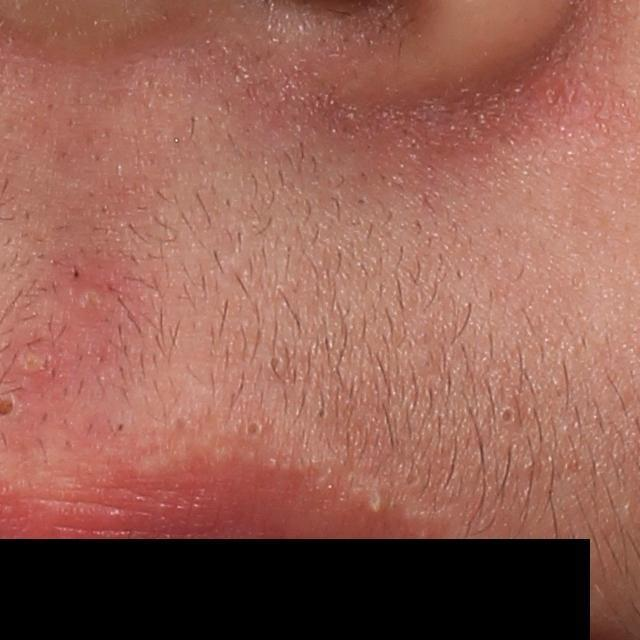comedo: (240, 411, 271, 442), (489, 398, 518, 426), (256, 353, 284, 377), (315, 404, 328, 420)
